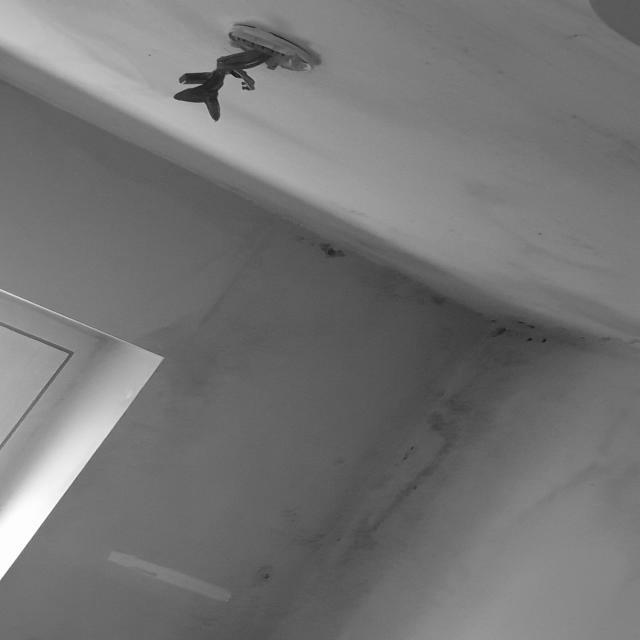stain marks: (381, 0, 640, 286), (371, 291, 640, 566), (102, 218, 364, 482), (99, 490, 366, 640), (230, 86, 381, 210), (1, 0, 180, 97)
